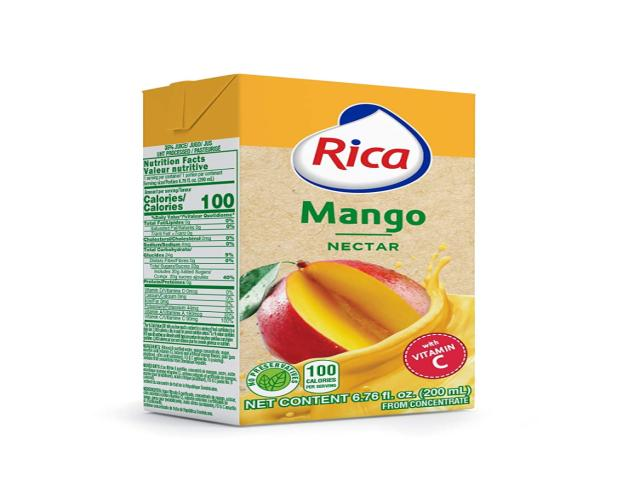drink_box: (131, 71, 483, 430)
